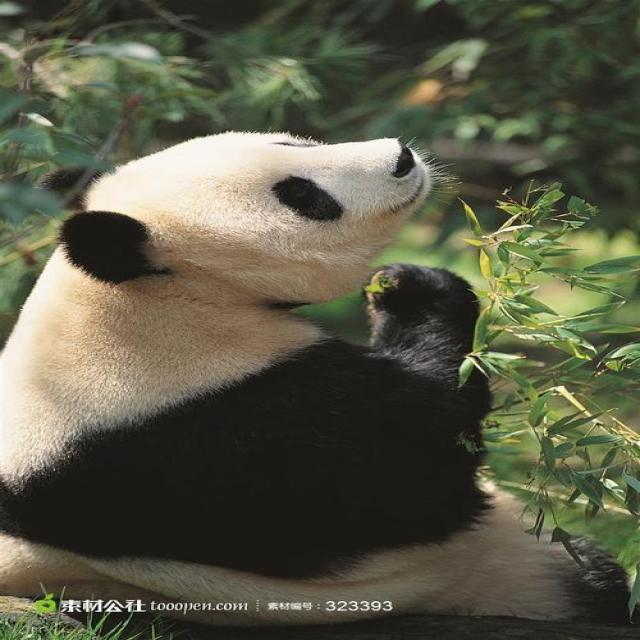panda: (1, 125, 639, 640)
